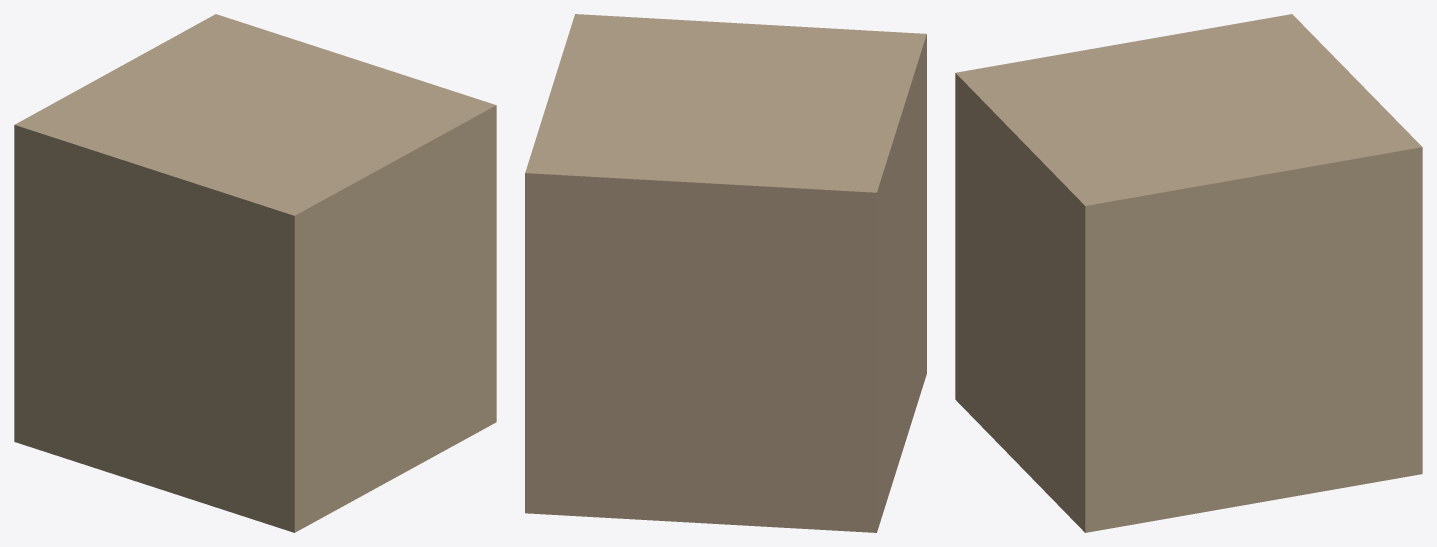
The model's file is bld_101805828.dae.
3 views of the same model, side by side, from view 1: azimuth 30°, elevation 25°; view 2: azimuth 150°, elevation 25°; view 3: azimuth 270°, elevation 25° (orthographic). The views are drawn at different scales.
Parts seen in each view (by area): view 1: bld_101805828; view 2: bld_101805828; view 3: bld_101805828.
Part boxes in pixels (<box>): bld_101805828: <box>14,14,496,532</box>; bld_101805828: <box>525,14,926,532</box>; bld_101805828: <box>955,14,1422,532</box>.
Size of the model in its own units: 10.08 by 10.36 by 8.
